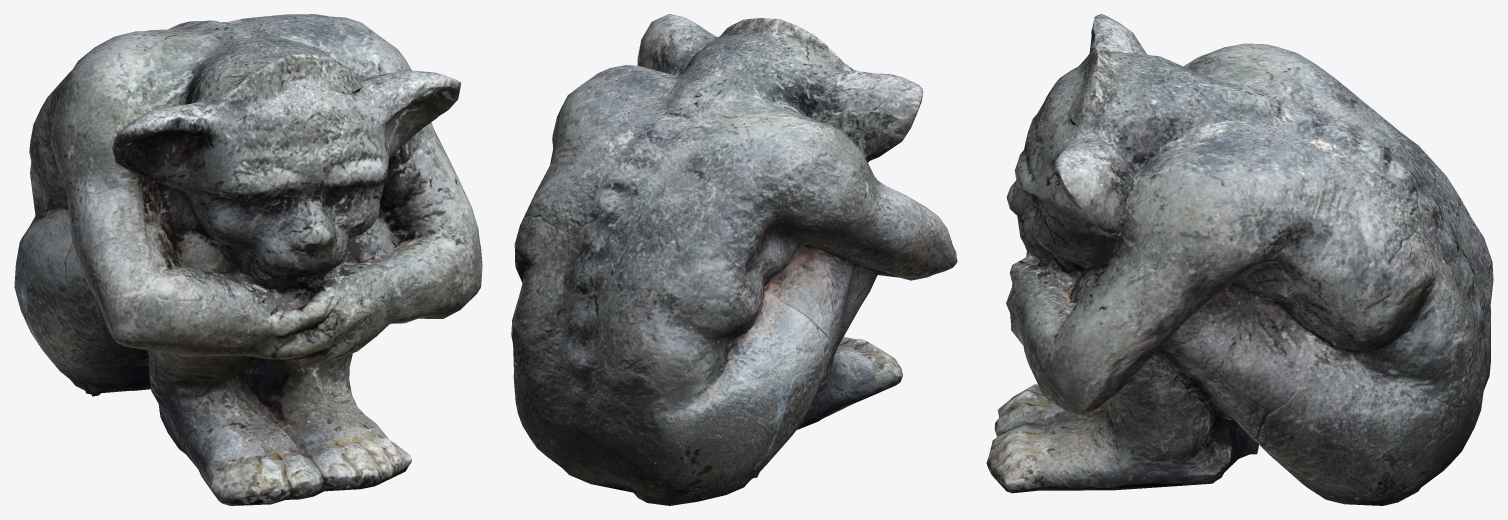
The model's file is scene-med.gltf.
3 views of the same model, side by side, from view 1: azimuth 30°, elevation 25°; view 2: azimuth 150°, elevation 25°; view 3: azimuth 270°, elevation 25° (orthographic). The views are drawn at different scales.
Parts seen in each view (by area): view 1: geo1; view 2: geo1; view 3: geo1.
Boxes of the visible parts, x1=… form: geo1: x1=14, y1=14, x2=482, y2=505; geo1: x1=511, y1=14, x2=957, y2=505; geo1: x1=986, y1=14, x2=1493, y2=505.
Bounding box in the file's own units: 0.0025 × 0.00257 × 0.00294.
1 material, 1 textured.
